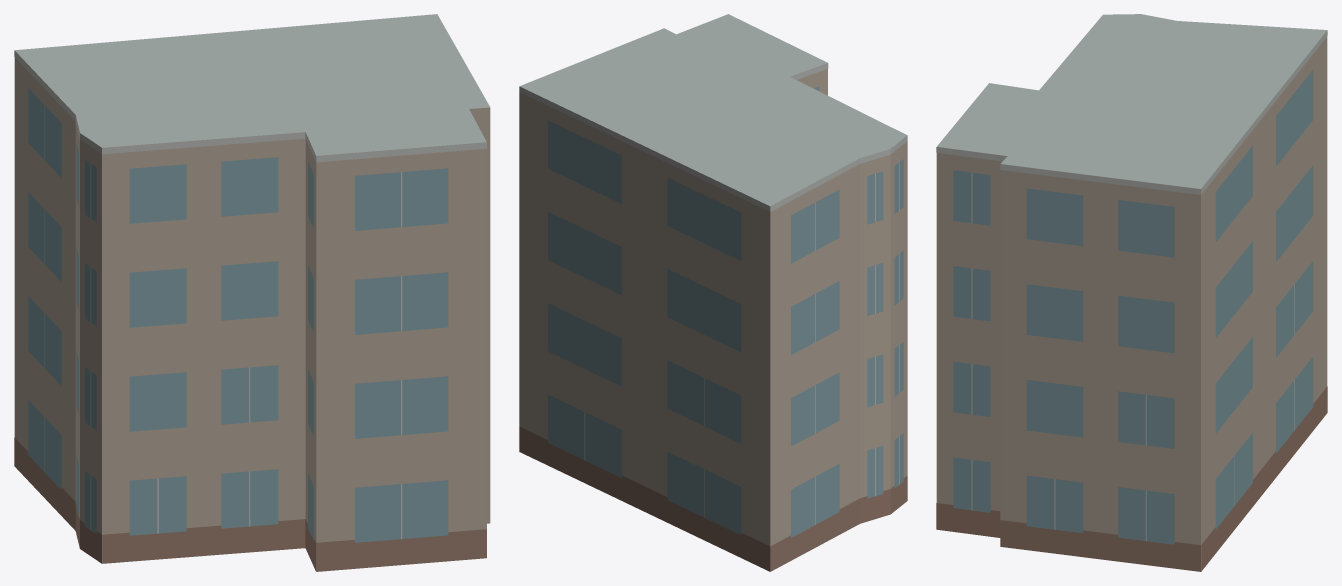
Rendered from survey-upis-33009634.glb.
3 renders of one model, left to right at view 1: azimuth 30°, elevation 25°; view 2: azimuth 150°, elevation 25°; view 3: azimuth 270°, elevation 25°, orthographic. The views are drawn at different scales.
Parts seen in each view (by area): view 1: survey-upis-33009634.tmp; view 2: survey-upis-33009634.tmp; view 3: survey-upis-33009634.tmp.
Part boxes in pixels (bbox=[...]): survey-upis-33009634.tmp: bbox=[14, 14, 490, 571]; survey-upis-33009634.tmp: bbox=[519, 14, 907, 571]; survey-upis-33009634.tmp: bbox=[936, 14, 1327, 571].
Size of the model in its own units: 15.36 by 15.65 by 14.5.
